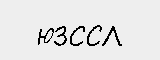З: (52, 22, 68, 49)
Л: (100, 23, 122, 45)
С: (68, 23, 86, 49), (86, 24, 105, 46)
Ю: (34, 26, 56, 48)
